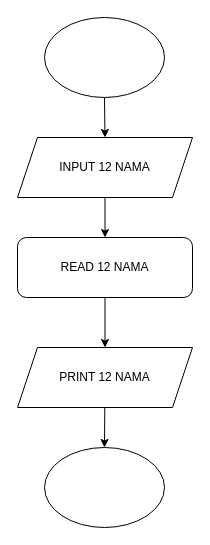
Some shapes in this 210 by 545 pixel diagram are drawn without their labels. Each missing label, with the centre of its shape:
"END" belongs at point 104,487.
"START" belongs at point 104,57.
